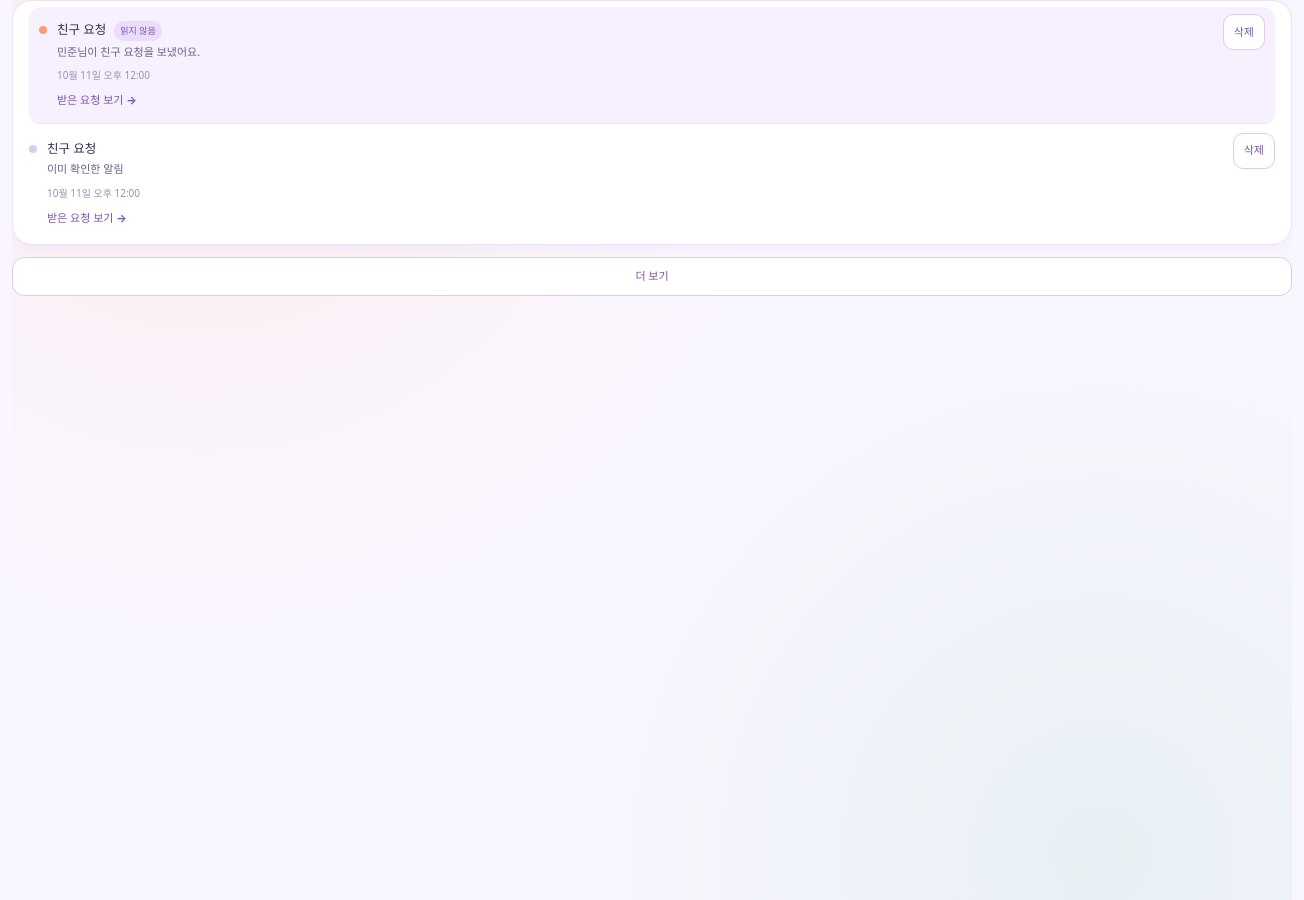
it: NotificationList › marks only unread items from each loaded page, without dropping earlier notifications
The width and height of the screenshot is (1304, 900).
Expected: the text "민준님이 친구 요청을 보냈어요." is shown, [57,44,200,58]
Click the button "더 보기".
click(652, 277)  # box [12,257,1292,296]
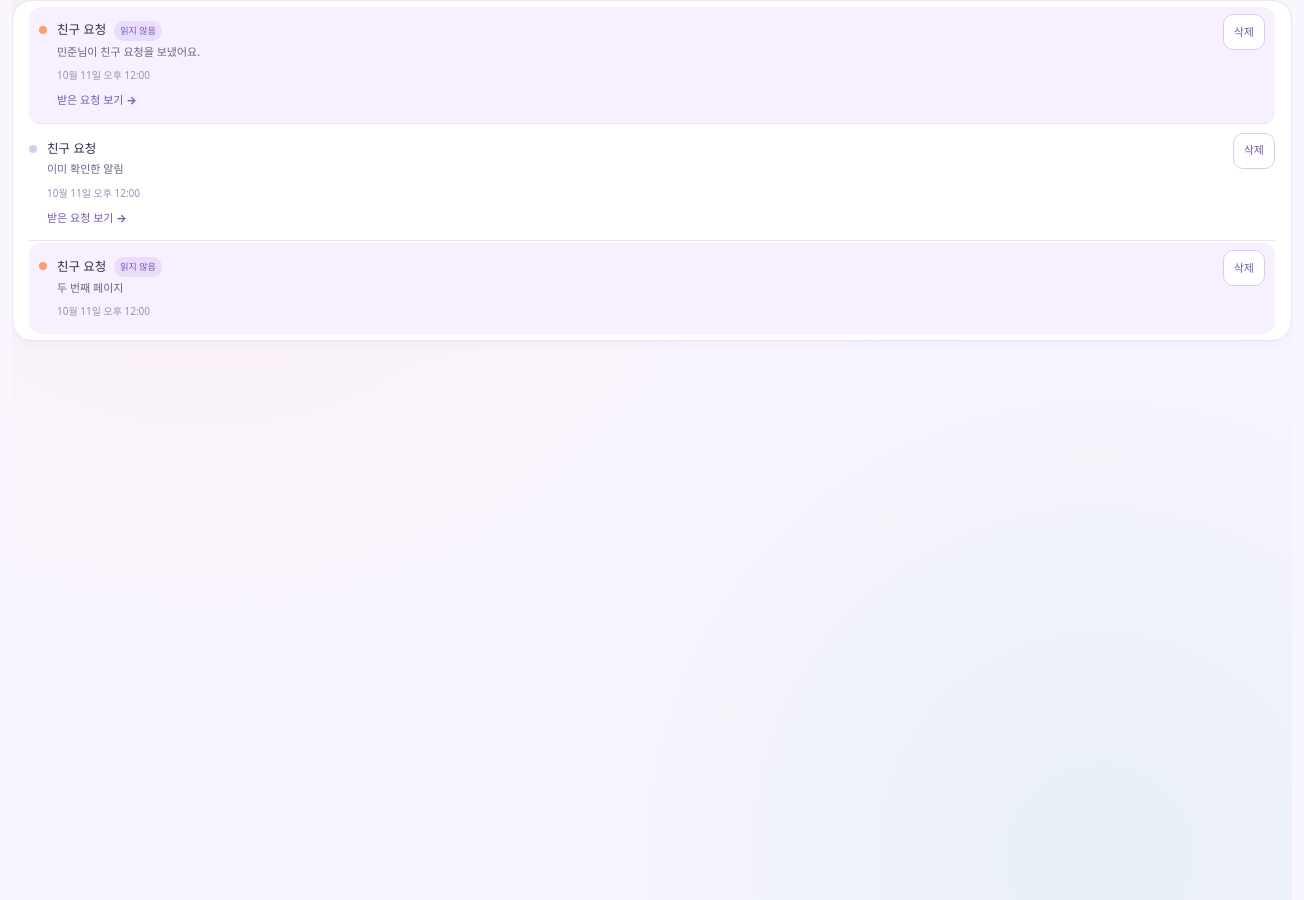
Expected: the text "민준님이 친구 요청을 보냈어요." is shown, [57,44,200,58]
Now the text "두 번째 페이지" is shown, box [57,280,124,295]
Now the button "더 보기" is gone
